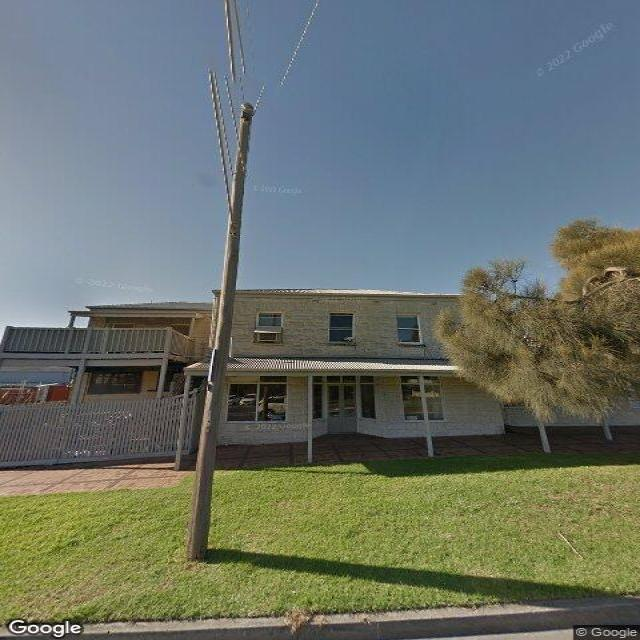timber-pole: (182, 101, 257, 561)
top mount suitable pole: (182, 100, 257, 562)
